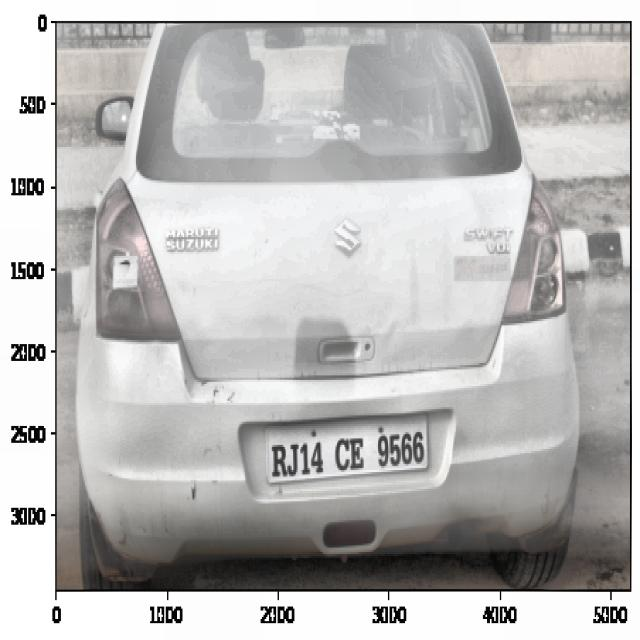license_plate: (269, 427, 428, 484)
